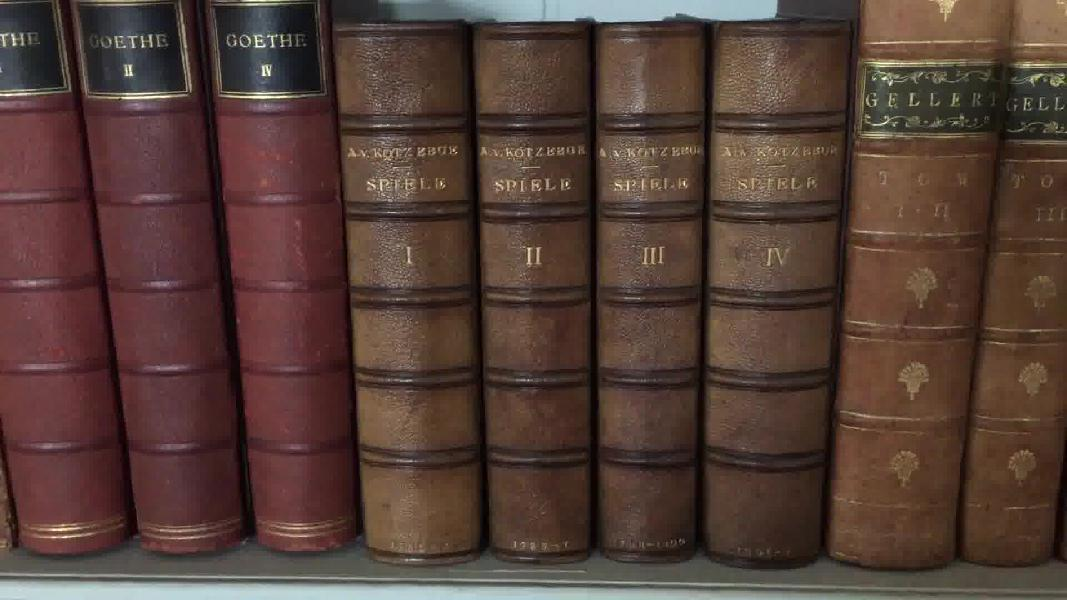Aa6-11_13: (2, 9, 358, 563)
Aa6-14_17: (320, 15, 851, 579)
